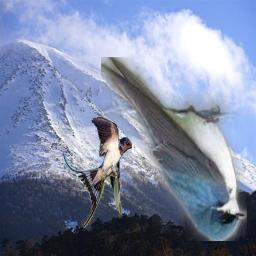Swallow: (101, 57, 247, 241), (63, 117, 132, 228)
